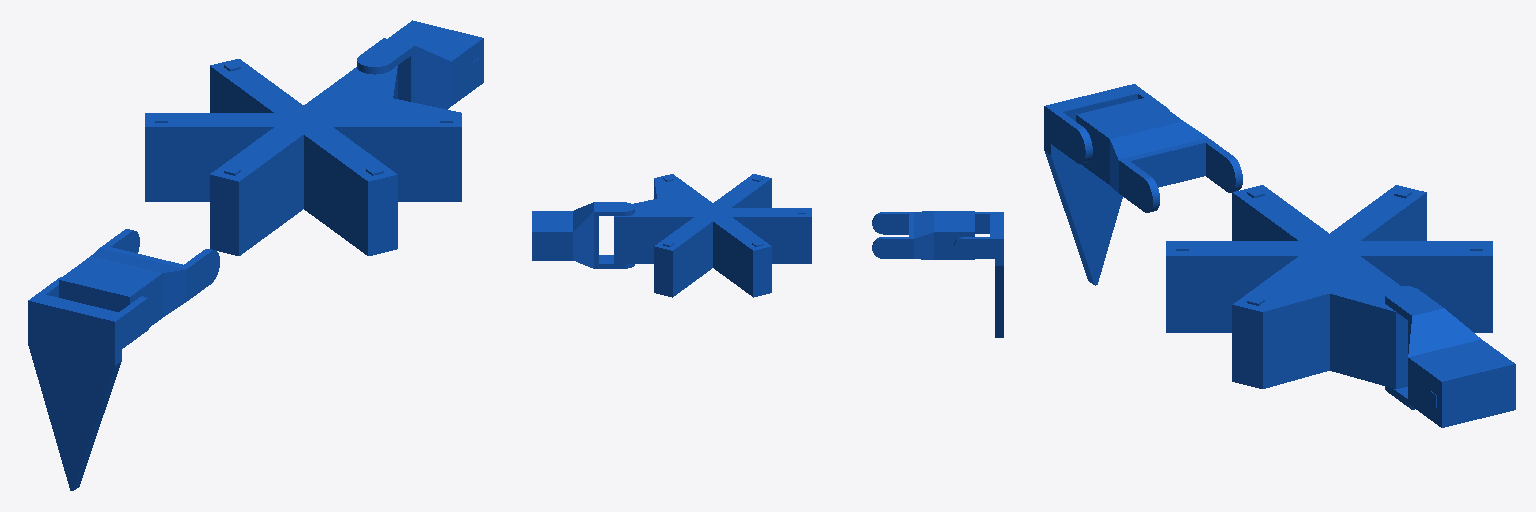
The robot description file, URDF, robot "hexo":
<robot name="hexo" version="1.0">
  <joint name="leg1_link1_joint" type="revolute">
    <limit lower="-2.000000" upper="2.000000" effort="1.960000" velocity="5.220000"/>
    <origin rpy="0.000000 0.000000 -0.523598" xyz="0.075777 -0.043750 -0.000000"/>
    <parent link="base_link"/>
    <child link="leg1_link1"/>
    <axis xyz="0.000000 0.000000 1.000000"/>
  </joint>
  <joint name="leg1_link2_joint" type="revolute">
    <limit lower="-2.000000" upper="2.000000" effort="1.960000" velocity="0.000000"/>
    <origin rpy="0.000000 0.000000 -0.000000" xyz="0.080000 -0.000000 0.000000"/>
    <parent link="leg1_link1"/>
    <child link="leg1_link2"/>
    <axis xyz="0.000000 -1.000000 0.000000"/>
  </joint>
  <joint name="leg1_link3_joint" type="revolute">
    <limit lower="-2.000000" upper="2.000000" effort="1.960000" velocity="0.000000"/>
    <origin rpy="0.000000 0.000000 0.000000" xyz="0.080000 -0.000000 -0.000000"/>
    <parent link="leg1_link2"/>
    <child link="leg1_link3"/>
    <axis xyz="0.000000 -1.000000 0.000000"/>
  </joint>
  <joint name="leg1_link4_joint" type="revolute">
    <limit lower="-3.140000" upper="3.140000" effort="10.000000" velocity="10.000000"/>
    <origin rpy="0.000000 0.000000 0.000000" xyz="0.034000 -0.000000 -0.111000"/>
    <parent link="leg1_link3"/>
    <child link="leg1_link4"/>
    <axis xyz="0.000000 0.000000 1.000000"/>
  </joint>
  <joint name="leg2_link1_joint" type="revolute">
    <limit lower="-2.000000" upper="2.000000" effort="1.960000" velocity="5.220000"/>
    <origin rpy="0.000000 0.000000 -1.570796" xyz="0.000000 -0.087500 -0.000000"/>
    <parent link="base_link"/>
    <child link="leg2_link1"/>
    <axis xyz="0.000000 0.000000 1.000000"/>
  </joint>
  <joint name="leg2_link2_joint" type="revolute">
    <limit lower="-2.000000" upper="2.000000" effort="1.960000" velocity="0.000000"/>
    <origin rpy="0.000000 0.000000 0.000000" xyz="0.080000 -0.000000 0.000000"/>
    <parent link="leg2_link1"/>
    <child link="leg2_link2"/>
    <axis xyz="0.000000 -1.000000 0.000000"/>
  </joint>
  <joint name="leg2_link3_joint" type="revolute">
    <limit lower="-2.000000" upper="2.000000" effort="1.960000" velocity="0.000000"/>
    <origin rpy="0.000000 0.000000 0.000000" xyz="0.080000 -0.000000 0.000000"/>
    <parent link="leg2_link2"/>
    <child link="leg2_link3"/>
    <axis xyz="0.000000 -1.000000 0.000000"/>
  </joint>
  <joint name="leg2_link4_joint" type="revolute">
    <limit lower="-3.140000" upper="3.140000" effort="10.000000" velocity="10.000000"/>
    <origin rpy="0.000000 0.000000 -0.000000" xyz="0.034000 -0.000000 -0.111000"/>
    <parent link="leg2_link3"/>
    <child link="leg2_link4"/>
    <axis xyz="0.000000 0.000000 1.000000"/>
  </joint>
  <joint name="leg3_link1_joint" type="revolute">
    <limit lower="-2.000000" upper="2.000000" effort="1.960000" velocity="5.220000"/>
    <origin rpy="0.000000 0.000000 -2.617994" xyz="-0.075777 -0.043750 -0.000000"/>
    <parent link="base_link"/>
    <child link="leg3_link1"/>
    <axis xyz="0.000000 0.000000 1.000000"/>
  </joint>
  <joint name="leg3_link2_joint" type="revolute">
    <limit lower="-2.000000" upper="2.000000" effort="1.960000" velocity="0.000000"/>
    <origin rpy="0.000000 0.000000 0.000000" xyz="0.080000 -0.000000 0.000000"/>
    <parent link="leg3_link1"/>
    <child link="leg3_link2"/>
    <axis xyz="0.000000 -1.000000 0.000000"/>
  </joint>
  <joint name="leg3_link3_joint" type="revolute">
    <limit lower="-2.000000" upper="2.000000" effort="1.960000" velocity="0.000000"/>
    <origin rpy="0.000000 0.000000 0.000000" xyz="0.080000 -0.000000 0.000000"/>
    <parent link="leg3_link2"/>
    <child link="leg3_link3"/>
    <axis xyz="0.000000 -1.000000 0.000000"/>
  </joint>
  <joint name="leg3_link4_joint" type="revolute">
    <limit lower="-3.140000" upper="3.140000" effort="10.000000" velocity="10.000000"/>
    <origin rpy="0.000000 0.000000 0.000000" xyz="0.034000 -0.000000 -0.111000"/>
    <parent link="leg3_link3"/>
    <child link="leg3_link4"/>
    <axis xyz="0.000000 0.000000 1.000000"/>
  </joint>
  <joint name="leg4_link1_joint" type="revolute">
    <limit lower="-2.000000" upper="2.000000" effort="1.960000" velocity="5.220000"/>
    <origin rpy="0.000000 0.000000 2.617994" xyz="-0.075777 0.043750 -0.000000"/>
    <parent link="base_link"/>
    <child link="leg4_link1"/>
    <axis xyz="0.000000 0.000000 1.000000"/>
  </joint>
  <joint name="leg4_link2_joint" type="revolute">
    <limit lower="-2.000000" upper="2.000000" effort="1.960000" velocity="0.000000"/>
    <origin rpy="0.000000 0.000000 -0.000000" xyz="0.080000 -0.000000 0.000000"/>
    <parent link="leg4_link1"/>
    <child link="leg4_link2"/>
    <axis xyz="0.000000 -1.000000 0.000000"/>
  </joint>
  <joint name="leg4_link3_joint" type="revolute">
    <limit lower="-2.000000" upper="2.000000" effort="1.960000" velocity="0.000000"/>
    <origin rpy="0.000000 0.000000 -0.000000" xyz="0.080000 0.000000 0.000000"/>
    <parent link="leg4_link2"/>
    <child link="leg4_link3"/>
    <axis xyz="0.000000 -1.000000 0.000000"/>
  </joint>
  <joint name="leg4_link4_joint" type="revolute">
    <limit lower="-3.140000" upper="3.140000" effort="10.000000" velocity="10.000000"/>
    <origin rpy="0.000000 0.000000 -0.000000" xyz="0.034000 0.000000 -0.111000"/>
    <parent link="leg4_link3"/>
    <child link="leg4_link4"/>
    <axis xyz="0.000000 0.000000 1.000000"/>
  </joint>
  <joint name="leg5_link1_joint" type="revolute">
    <limit lower="-2.000000" upper="2.000000" effort="1.960000" velocity="5.220000"/>
    <origin rpy="0.000000 0.000000 1.570796" xyz="-0.000000 0.087500 -0.000000"/>
    <parent link="base_link"/>
    <child link="leg5_link1"/>
    <axis xyz="0.000000 0.000000 1.000000"/>
  </joint>
  <joint name="leg5_link2_joint" type="revolute">
    <limit lower="-2.000000" upper="2.000000" effort="1.960000" velocity="0.000000"/>
    <origin rpy="0.000000 0.000000 -0.000000" xyz="0.080000 -0.000000 0.000000"/>
    <parent link="leg5_link1"/>
    <child link="leg5_link2"/>
    <axis xyz="0.000000 -1.000000 0.000000"/>
  </joint>
  <joint name="leg5_link3_joint" type="revolute">
    <limit lower="-2.000000" upper="2.000000" effort="1.960000" velocity="0.000000"/>
    <origin rpy="0.000000 0.000000 0.000000" xyz="0.080000 -0.000000 -0.000000"/>
    <parent link="leg5_link2"/>
    <child link="leg5_link3"/>
    <axis xyz="0.000000 -1.000000 0.000000"/>
  </joint>
  <joint name="leg5_link4_joint" type="revolute">
    <limit lower="-3.140000" upper="3.140000" effort="10.000000" velocity="10.000000"/>
    <origin rpy="0.000000 0.000000 0.000000" xyz="0.034000 -0.000000 -0.111000"/>
    <parent link="leg5_link3"/>
    <child link="leg5_link4"/>
    <axis xyz="0.000000 0.000000 1.000000"/>
  </joint>
  <joint name="leg6_link1_joint" type="revolute">
    <limit lower="-2.000000" upper="2.000000" effort="1.960000" velocity="5.220000"/>
    <origin rpy="0.000000 0.000000 0.523599" xyz="0.075777 0.043750 -0.000000"/>
    <parent link="base_link"/>
    <child link="leg6_link1"/>
    <axis xyz="0.000000 0.000000 1.000000"/>
  </joint>
  <joint name="leg6_link2_joint" type="revolute">
    <limit lower="-2.000000" upper="2.000000" effort="1.960000" velocity="0.000000"/>
    <origin rpy="0.000000 0.000000 0.000000" xyz="0.080000 -0.000000 0.000000"/>
    <parent link="leg6_link1"/>
    <child link="leg6_link2"/>
    <axis xyz="0.000000 -1.000000 0.000000"/>
  </joint>
  <joint name="leg6_link3_joint" type="revolute">
    <limit lower="-2.000000" upper="2.000000" effort="1.960000" velocity="0.000000"/>
    <origin rpy="0.000000 0.000000 -0.000000" xyz="0.080000 -0.000000 0.000000"/>
    <parent link="leg6_link2"/>
    <child link="leg6_link3"/>
    <axis xyz="0.000000 -1.000000 0.000000"/>
  </joint>
  <joint name="leg6_link4_joint" type="revolute">
    <limit lower="-3.140000" upper="3.140000" effort="10.000000" velocity="10.000000"/>
    <origin rpy="0.000000 0.000000 -0.000000" xyz="0.034000 -0.000000 -0.111000"/>
    <parent link="leg6_link3"/>
    <child link="leg6_link4"/>
    <axis xyz="0.000000 0.000000 1.000000"/>
  </joint>
  <link name="base_link">
  
    <visual name="base">
      <origin rpy="0.000000 0.000000 0.000000" xyz="0.000000 0.000000 -0.025435"/>
      <material name="Material"/>
      <geometry>
        <mesh filename="package://hexa_description/meshes/stl/base.stl" scale="1.000000 1.000000 1.000000"/>
      </geometry>
    </visual>
  </link>
  <link name="leg1_link1">
  
    <visual name="leg5_link1.009">
      <origin rpy="0.000000 0.000000 0.000000" xyz="0.000000 0.000000 -0.025950"/>
      <material name="Material"/>
      <geometry>
        <mesh filename="package://hexa_description/meshes/stl/leg5_stl1.009.stl" scale="1.000000 1.000000 1.000000"/>
      </geometry>
    </visual>
  </link>
  <link name="leg1_link2">
  
    <visual name="leg5_link2.009">
      <origin rpy="0.000000 0.000000 0.000000" xyz="-0.000000 -0.025850 0.000000"/>
      <material name="Material"/>
      <geometry>
        <mesh filename="package://hexa_description/meshes/stl/leg5_stl2.009.stl" scale="1.000000 1.000000 1.000000"/>
      </geometry>
    </visual>
  </link>
  <link name="leg1_link3">
  
    <visual name="leg5_link3.009">
      <origin rpy="0.000000 0.000000 0.000000" xyz="-0.000000 -0.025750 0.000000"/>
      <material name="Material"/>
      <geometry>
        <mesh filename="package://hexa_description/meshes/stl/leg5_stl3.009.stl" scale="1.000000 1.000000 1.000000"/>
      </geometry>
    </visual>
  </link>
  <link name="leg1_link4">
  
  </link>
  <link name="leg2_link1">
  
    <visual name="leg5_link1.001">
      <origin rpy="0.000000 0.000000 0.000000" xyz="0.000000 0.000000 -0.025950"/>
      <material name="Material"/>
      <geometry>
        <mesh filename="package://hexa_description/meshes/stl/leg5_stl1.001.stl" scale="1.000000 1.000000 1.000000"/>
      </geometry>
    </visual>
  </link>
  <link name="leg2_link2">
  
    <visual name="leg5_link2.001">
      <origin rpy="0.000000 0.000000 0.000000" xyz="0.000000 -0.025850 0.000000"/>
      <material name="Material"/>
      <geometry>
        <mesh filename="package://hexa_description/meshes/stl/leg5_stl2.001.stl" scale="1.000000 1.000000 1.000000"/>
      </geometry>
    </visual>
  </link>
  <link name="leg2_link3">
  
    <visual name="leg5_link3.001">
      <origin rpy="0.000000 0.000000 0.000000" xyz="0.000000 -0.025750 0.000000"/>
      <material name="Material"/>
      <geometry>
        <mesh filename="package://hexa_description/meshes/stl/leg5_stl3.001.stl" scale="1.000000 1.000000 1.000000"/>
      </geometry>
    </visual>
  </link>
  <link name="leg2_link4">
  
  </link>
  <link name="leg3_link1">
  
    <visual name="leg5_link1.005">
      <origin rpy="0.000000 0.000000 -0.000000" xyz="0.000000 0.000000 -0.025950"/>
      <material name="Material"/>
      <geometry>
        <mesh filename="package://hexa_description/meshes/stl/leg5_stl1.005.stl" scale="1.000000 1.000000 1.000000"/>
      </geometry>
    </visual>
  </link>
  <link name="leg3_link2">
  
    <visual name="leg5_link2.005">
      <origin rpy="0.000000 0.000000 -0.000000" xyz="0.000000 -0.025850 0.000000"/>
      <material name="Material"/>
      <geometry>
        <mesh filename="package://hexa_description/meshes/stl/leg5_stl2.005.stl" scale="1.000000 1.000000 1.000000"/>
      </geometry>
    </visual>
  </link>
  <link name="leg3_link3">
  
    <visual name="leg5_link3.005">
      <origin rpy="0.000000 0.000000 -0.000000" xyz="-0.000000 -0.025750 0.000000"/>
      <material name="Material"/>
      <geometry>
        <mesh filename="package://hexa_description/meshes/stl/leg5_stl3.005.stl" scale="1.000000 1.000000 1.000000"/>
      </geometry>
    </visual>
  </link>
  <link name="leg3_link4">
  
  </link>
  <link name="leg4_link1">
  
    <visual name="leg5_link1.003">
      <origin rpy="0.000000 0.000000 -0.000000" xyz="0.000000 0.000000 -0.025950"/>
      <material name="Material"/>
      <geometry>
        <mesh filename="package://hexa_description/meshes/stl/leg5_stl1.003.stl" scale="1.000000 1.000000 1.000000"/>
      </geometry>
    </visual>
  </link>
  <link name="leg4_link2">
  
    <visual name="leg5_link2.003">
      <origin rpy="0.000000 0.000000 -0.000000" xyz="0.000000 -0.025850 0.000000"/>
      <material name="Material"/>
      <geometry>
        <mesh filename="package://hexa_description/meshes/stl/leg5_stl2.003.stl" scale="1.000000 1.000000 1.000000"/>
      </geometry>
    </visual>
  </link>
  <link name="leg4_link3">
  
    <visual name="leg5_link3.003">
      <origin rpy="0.000000 0.000000 -0.000000" xyz="0.000000 -0.025750 0.000000"/>
      <material name="Material"/>
      <geometry>
        <mesh filename="package://hexa_description/meshes/stl/leg5_stl3.003.stl" scale="1.000000 1.000000 1.000000"/>
      </geometry>
    </visual>
  </link>
  <link name="leg4_link4">
  
  </link>
  <link name="leg5_link1">
  
    <visual name="leg5_link1.007">
      <origin rpy="0.000000 0.000000 0.000000" xyz="0.000000 0.000000 -0.025950"/>
      <material name="Material"/>
      <geometry>
        <mesh filename="package://hexa_description/meshes/stl/leg5_stl1.007.stl" scale="1.000000 1.000000 1.000000"/>
      </geometry>
    </visual>
  </link>
  <link name="leg5_link2">
  
    <visual name="leg5_link2.007">
      <origin rpy="0.000000 0.000000 -0.000000" xyz="-0.000000 -0.025850 0.000000"/>
      <material name="Material"/>
      <geometry>
        <mesh filename="package://hexa_description/meshes/stl/leg5_stl2.007.stl" scale="1.000000 1.000000 1.000000"/>
      </geometry>
    </visual>
  </link>
  <link name="leg5_link3">
  
    <visual name="leg5_link3.007">
      <origin rpy="0.000000 0.000000 -0.000000" xyz="-0.000000 -0.025750 0.000000"/>
      <material name="Material"/>
      <geometry>
        <mesh filename="package://hexa_description/meshes/stl/leg5_stl3.007.stl" scale="1.000000 1.000000 1.000000"/>
      </geometry>
    </visual>
  </link>
  <link name="leg5_link4">
  
  </link>
  <link name="leg6_link1">
  
    <visual name="leg5_link1.011">
      <origin rpy="0.000000 0.000000 -0.000000" xyz="0.000000 -0.000000 -0.025950"/>
      <material name="Material"/>
      <geometry>
        <mesh filename="package://hexa_description/meshes/stl/leg5_stl1.011.stl" scale="1.000000 1.000000 1.000000"/>
      </geometry>
    </visual>
  </link>
  <link name="leg6_link2">
  
    <visual name="leg5_link2.011">
      <origin rpy="0.000000 0.000000 0.000000" xyz="-0.000000 -0.025850 -0.000000"/>
      <material name="Material"/>
      <geometry>
        <mesh filename="package://hexa_description/meshes/stl/leg5_stl2.011.stl" scale="1.000000 1.000000 1.000000"/>
      </geometry>
    </visual>
  </link>
  <link name="leg6_link3">
  
    <visual name="leg5_link3.011">
      <origin rpy="0.000000 0.000000 -0.000000" xyz="-0.000000 -0.025750 0.000000"/>
      <material name="Material"/>
      <geometry>
        <mesh filename="package://hexa_description/meshes/stl/leg5_stl3.011.stl" scale="1.000000 1.000000 1.000000"/>
      </geometry>
    </visual>
  </link>
  <link name="leg6_link4">
  
  </link>
  <material name="Material">
    <color rgba="0.133333 0.415686 0.800000 0.50000"/>
  </material>
</robot>

--- What the picture shows (computed from the rendered views, not written in the file) ---
3 views of the same robot in one strip: view 1: azimuth 30°, elevation 25°; view 2: azimuth 150°, elevation 25°; view 3: azimuth 270°, elevation 25° (orthographic).
Robot: hexo — 25 links, 24 joints (24 revolute); root link base_link; default pose: every joint at zero.
Visible links, largest first — view 1: base_link, leg3_link3, leg3_link2, leg6_link1; view 2: base_link, leg6_link1, leg3_link2, leg3_link3; view 3: base_link, leg6_link1, leg3_link2, leg3_link3.
Link boxes in pixels (x1,y1,x2,y2): base_link: (145,59,461,255); leg3_link3: (28,277,154,490); leg3_link2: (59,229,219,325); leg6_link1: (357,20,483,109); base_link: (614,174,811,297); leg6_link1: (532,202,634,268); leg3_link2: (872,211,974,259); leg3_link3: (954,212,1003,337); base_link: (1166,185,1492,388); leg6_link1: (1385,286,1515,427); leg3_link2: (1076,97,1242,212); leg3_link3: (1044,84,1169,285).
Bounding box of the posed robot: 0.429 × 0.2804 × 0.142 m (x, y, z).
Meshes: 19 distinct files referenced, 4 mesh visuals loaded (4 binary STL); not drawn: 15 (reference not matched to a file when rendering).